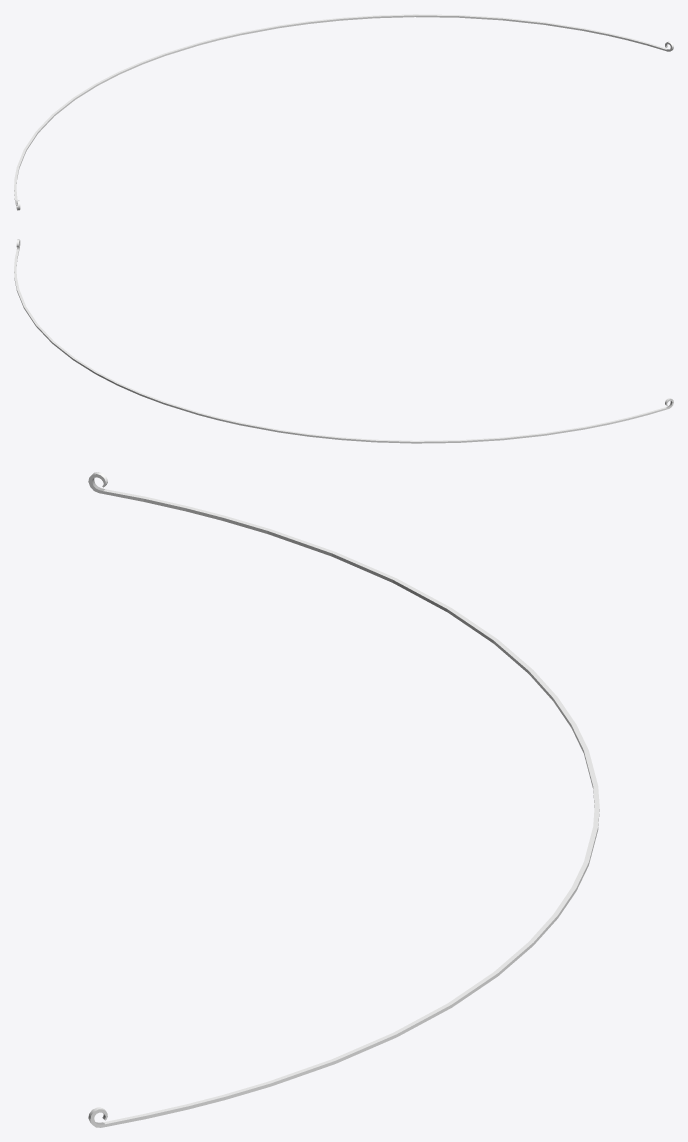
The model's file is menu_horizontal_bg.glb.
The picture shows the model from 3 angles, top to bottom: view 1: azimuth 30°, elevation 25°; view 2: azimuth 150°, elevation 25°; view 3: azimuth 270°, elevation 25°; orthographic projection. The views are drawn at different scales.
Parts seen in each view (by area): view 1: menu_frame_lines; view 2: menu_frame_lines; view 3: menu_frame_lines.
Boxes of the visible parts, bbox=[...] form: menu_frame_lines: bbox=[14, 14, 673, 210]; menu_frame_lines: bbox=[14, 239, 673, 443]; menu_frame_lines: bbox=[88, 472, 599, 1127].
Bounding box in the file's own units: 29.84 × 0.4087 × 10.07.
Materials: 1 (1 with a texture image).
